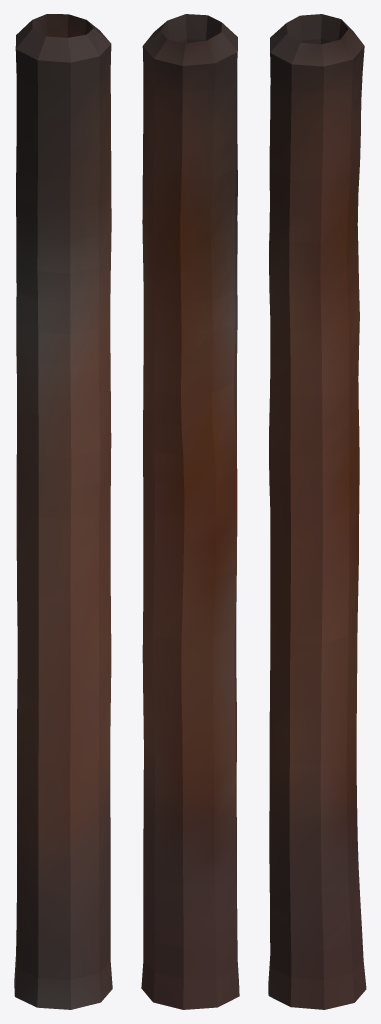
The model's file is Tuyau base 3.fbx.
The picture shows the model from 3 angles, left to right: view 1: azimuth 30°, elevation 25°; view 2: azimuth 210°, elevation 25°; view 3: azimuth 270°, elevation 25°; orthographic projection.
Visible parts, largest first — view 1: Tuyau base; view 2: Tuyau base; view 3: Tuyau base.
Boxes of the visible parts, x1=… form: Tuyau base: x1=14, y1=14, x2=112, y2=1009; Tuyau base: x1=141, y1=14, x2=239, y2=1009; Tuyau base: x1=268, y1=14, x2=366, y2=1009.
Size of the model in its own units: 0.6628 by 7.08 by 0.6536.
